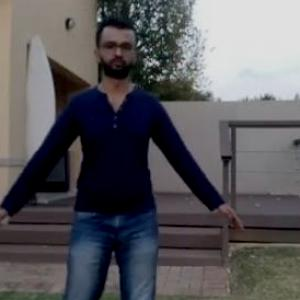land: (1, 37, 228, 299)
